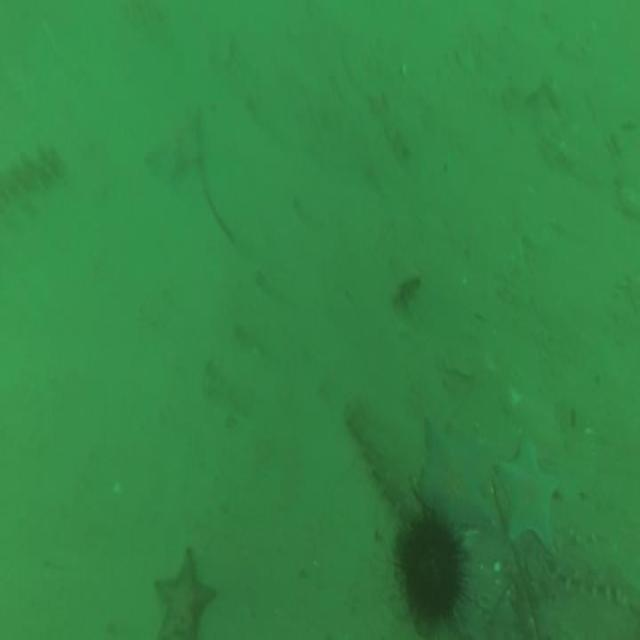echinus: (399, 510, 465, 628)
holothurian: (346, 398, 418, 533), (555, 532, 637, 608), (3, 140, 62, 206)
starfish: (416, 422, 492, 537), (495, 433, 563, 555), (153, 544, 213, 635)
